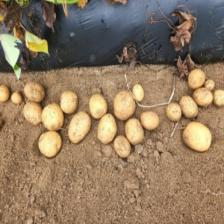Potato: (182, 119, 212, 150), (67, 108, 92, 144), (40, 104, 66, 133), (97, 111, 118, 146), (113, 89, 136, 119), (38, 130, 61, 157), (124, 116, 144, 145), (88, 92, 109, 118), (180, 94, 200, 120), (23, 101, 43, 126), (193, 86, 215, 108), (141, 110, 161, 134), (113, 133, 131, 159), (24, 80, 45, 102), (59, 91, 80, 113), (188, 68, 206, 90), (165, 101, 182, 122), (132, 84, 146, 101), (0, 83, 10, 105), (213, 88, 224, 106), (10, 90, 22, 106), (204, 76, 214, 91)
